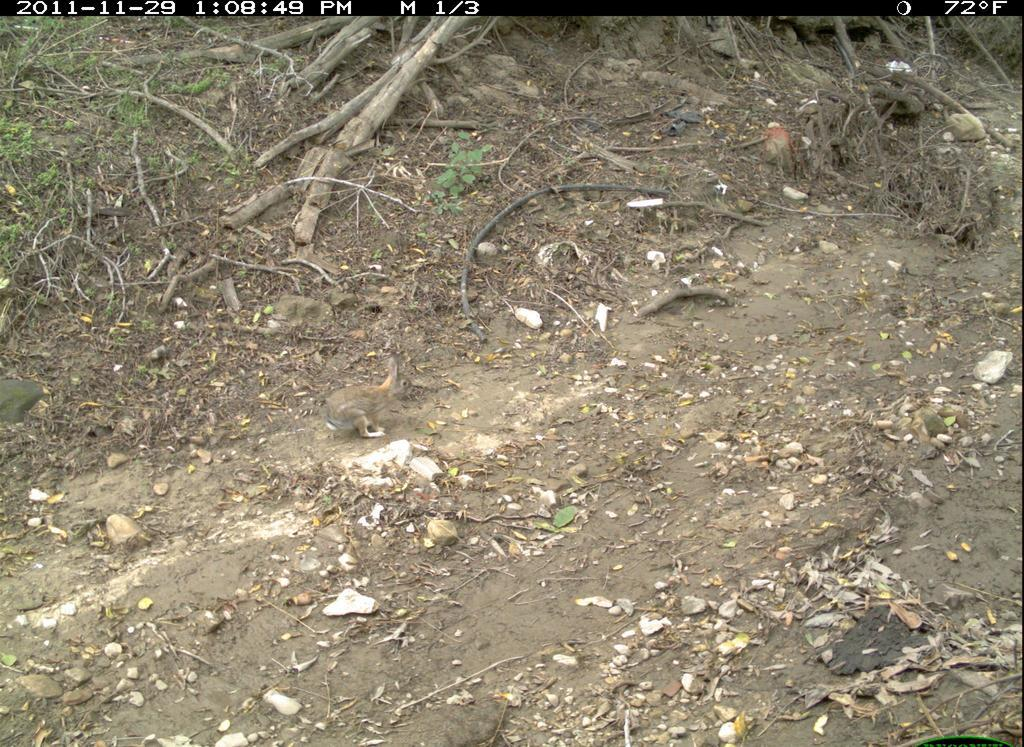rabbit: (326, 356, 414, 440)
